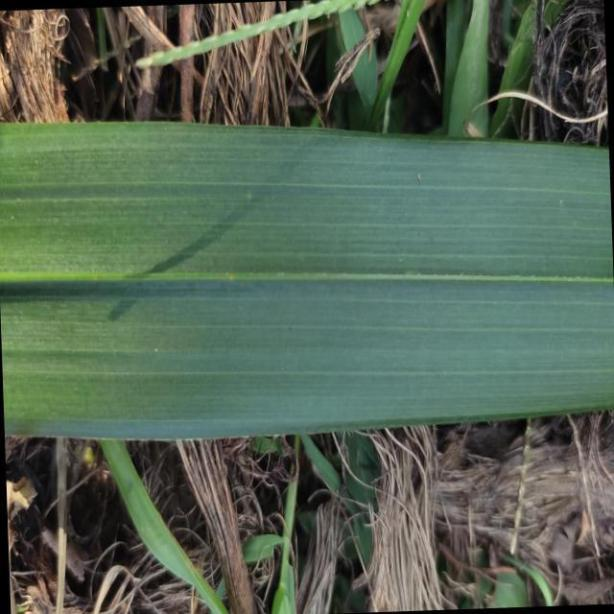Healthy: (0, 121, 614, 442)
